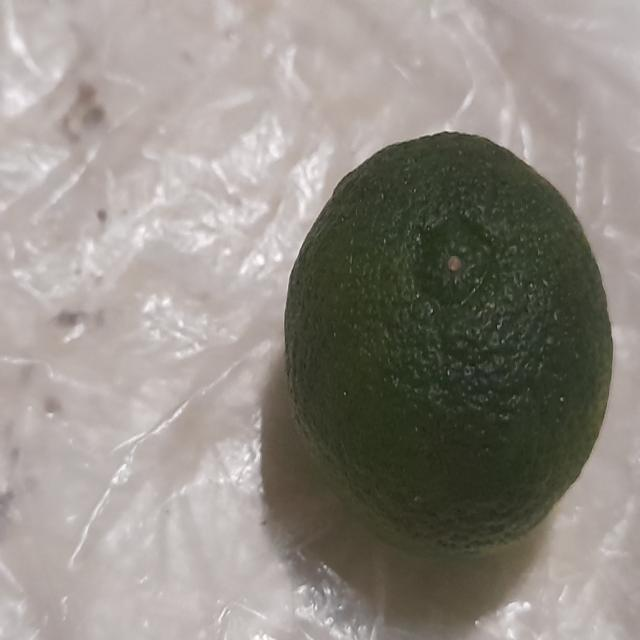heathy: (281, 123, 619, 582)
